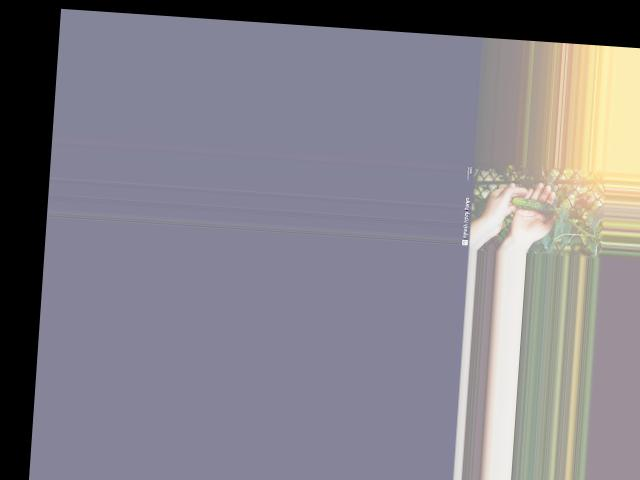cucumber: (511, 196, 555, 214)
